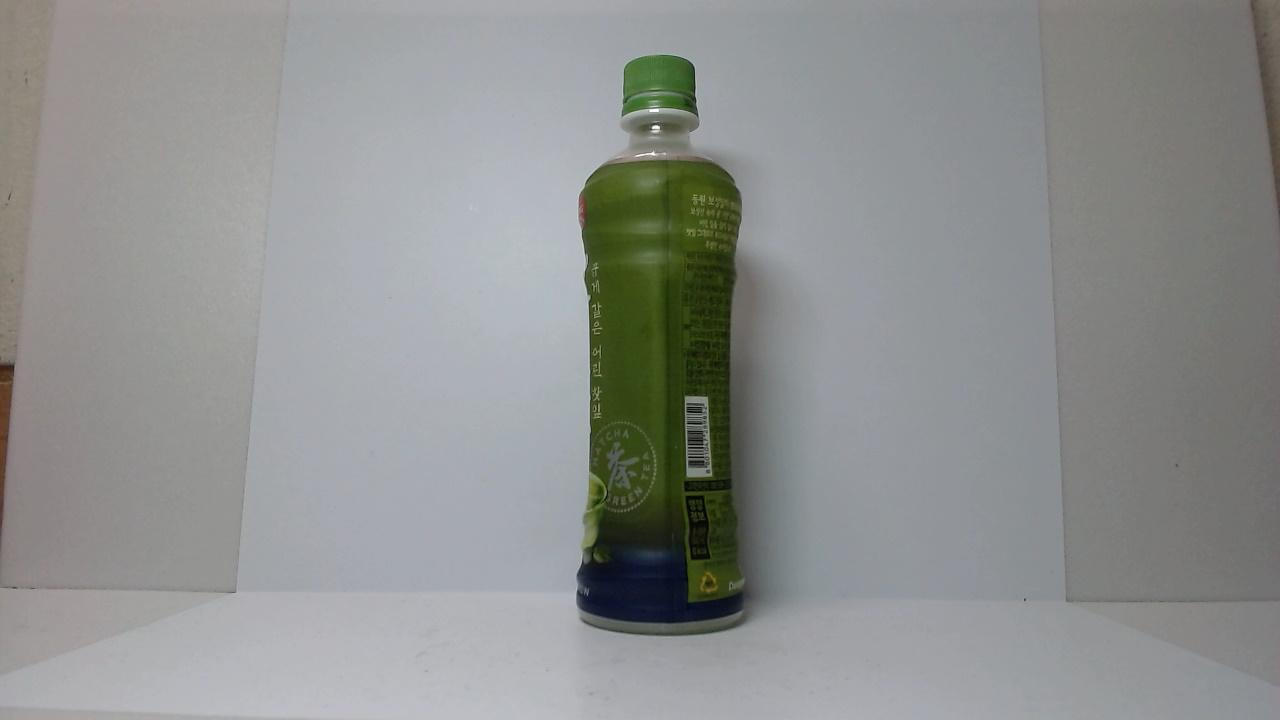bottle: (560, 281, 762, 303)
